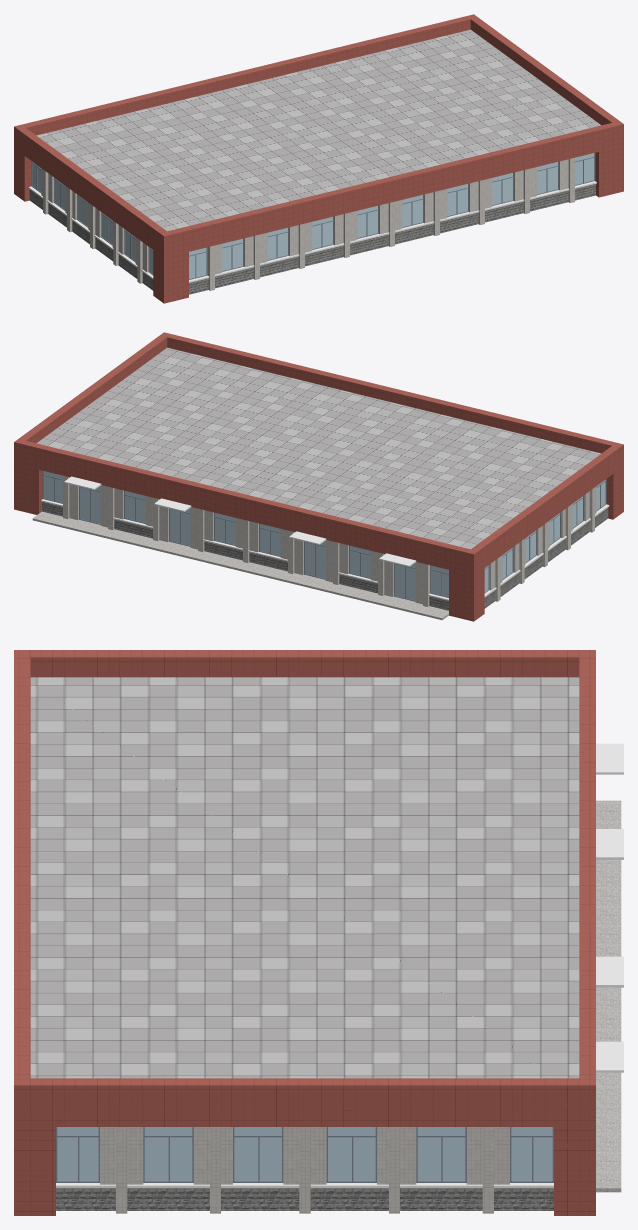
File: Demo2.gltf
3 views of the same model, one above another, from view 1: azimuth 30°, elevation 25°; view 2: azimuth 150°, elevation 25°; view 3: azimuth 270°, elevation 25° (orthographic). The views are drawn at different scales.
Visible parts, largest first — view 1: 厂房31; view 2: 厂房31; view 3: 厂房31.
Part boxes in pixels (left/top/right/bottom): 厂房31: left=14, top=14, right=623, bottom=303; 厂房31: left=14, top=332, right=623, bottom=621; 厂房31: left=14, top=650, right=623, bottom=1215.
Bounding box in the file's own units: 36.8 × 5.15 × 21.8.
8 materials, 5 textured.
